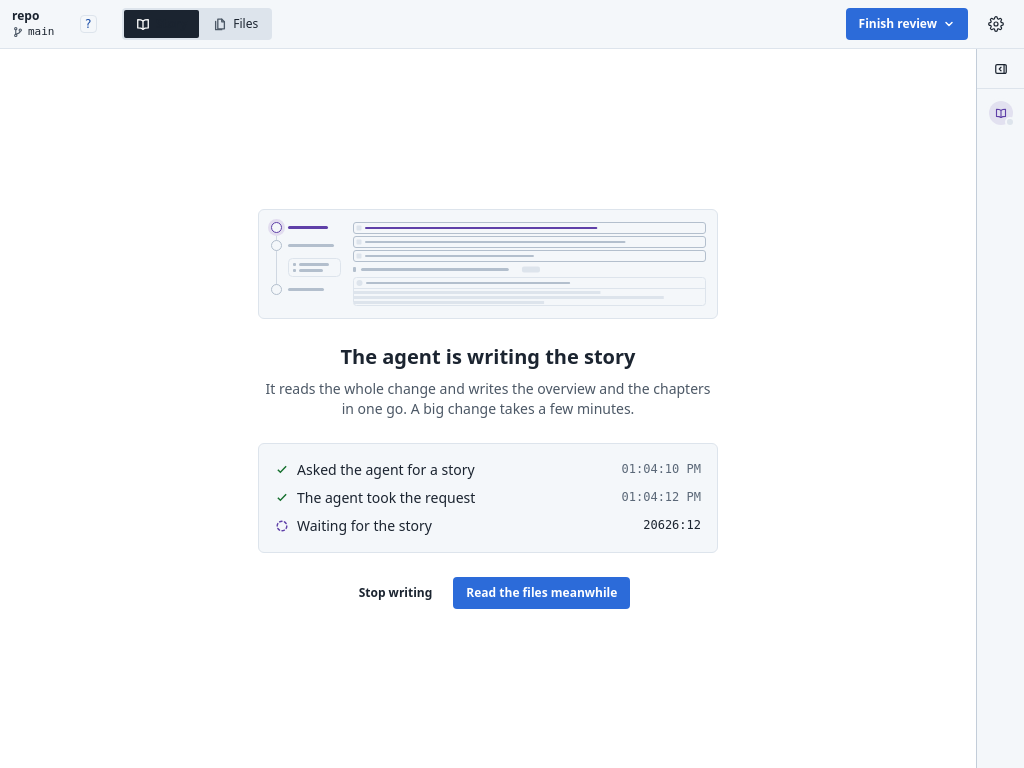
Test: a story being written, its request taken by an agent › brings the files on screen meanwhile, and leaves the story as how the reader chose to read
Click the button with test id "read-files-meanwhile": x=542, y=592 [453,576,630,608]
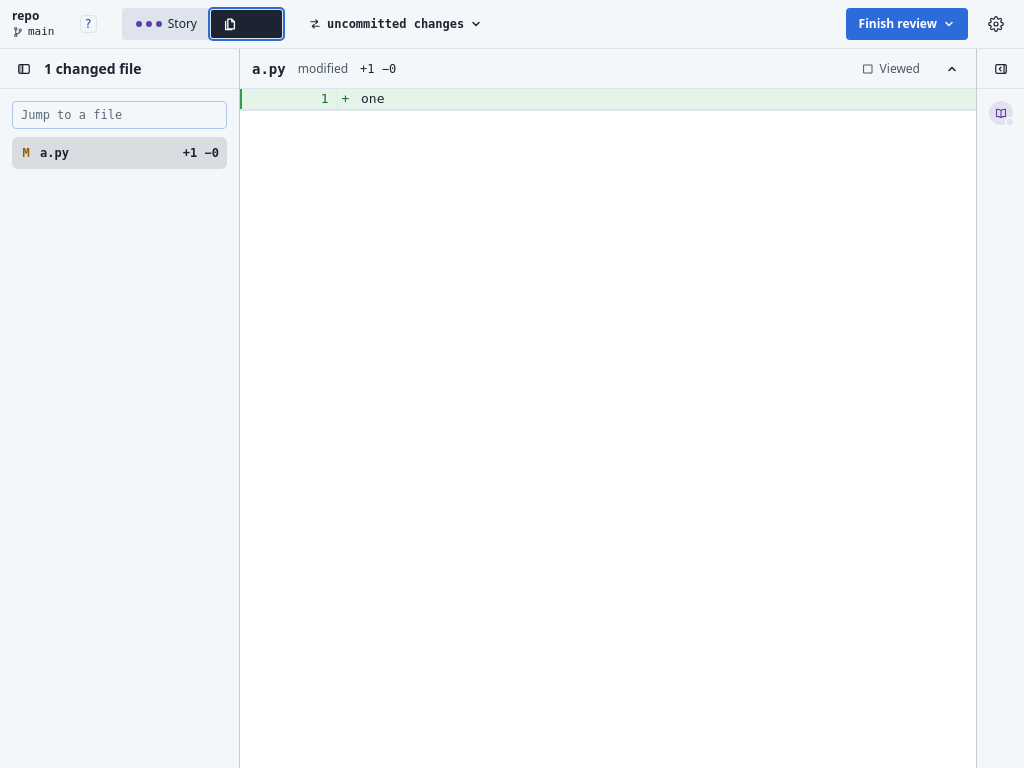
expect the element with test id "diff-view" is shown: met
